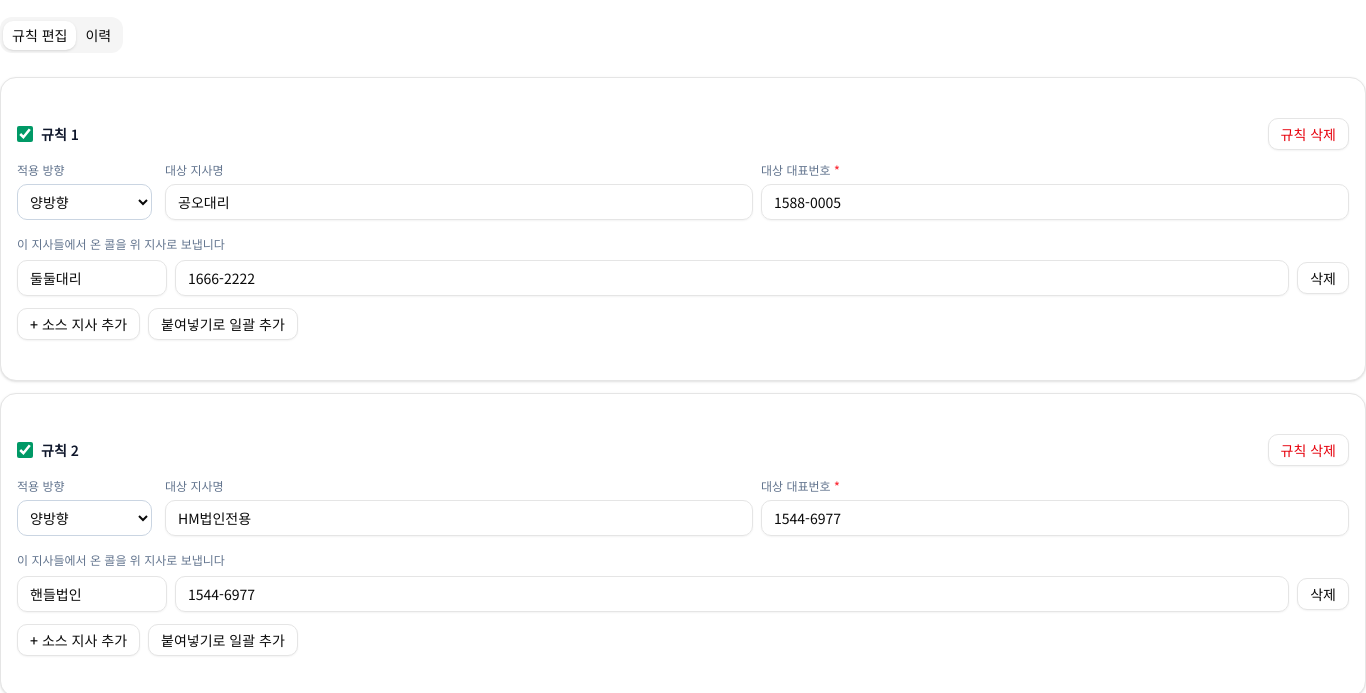
Test case: JisamapPage — 지사 관리자 › 모든 규칙을 끄면 매핑이 해제된다고 경고한다
This screenshot has width=1366, height=693.
Click the checkbox with test id "rule-enabled-0".
click(25, 134)  # box [17, 126, 33, 142]
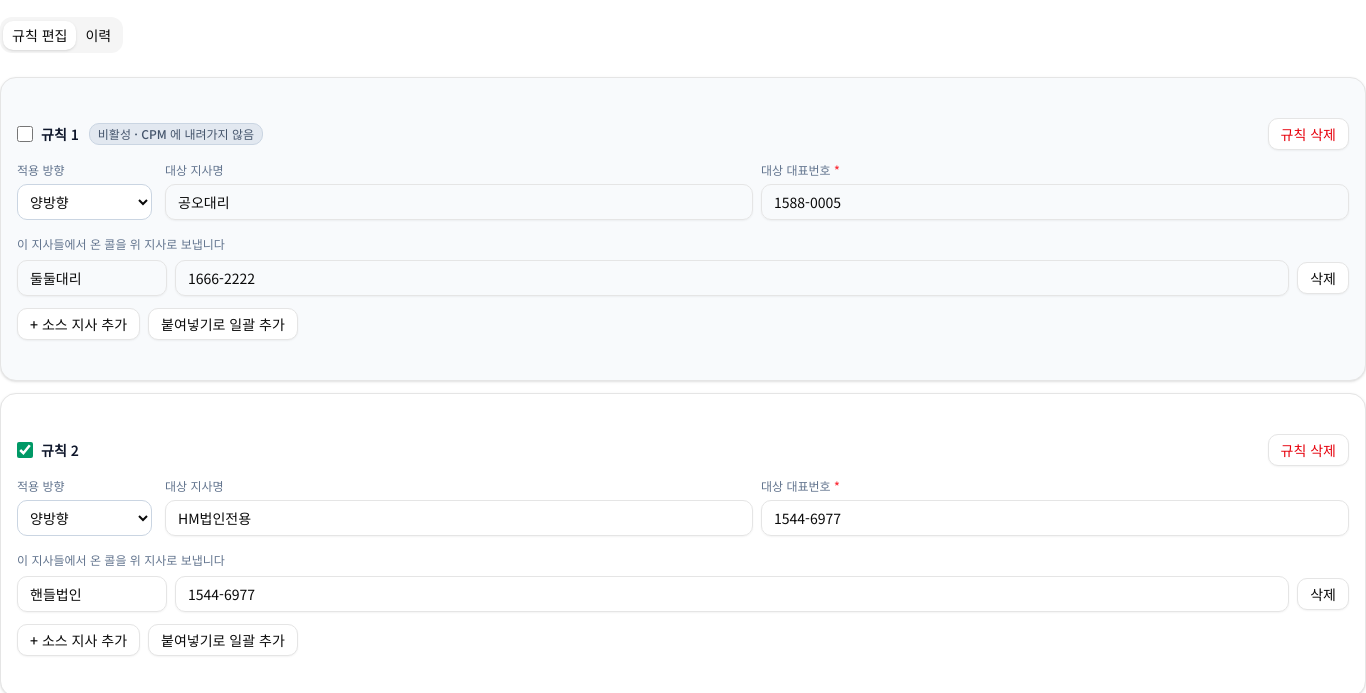
Click the checkbox with test id "rule-enabled-1".
click(25, 450)  # box [17, 442, 33, 458]
(page scrolled)
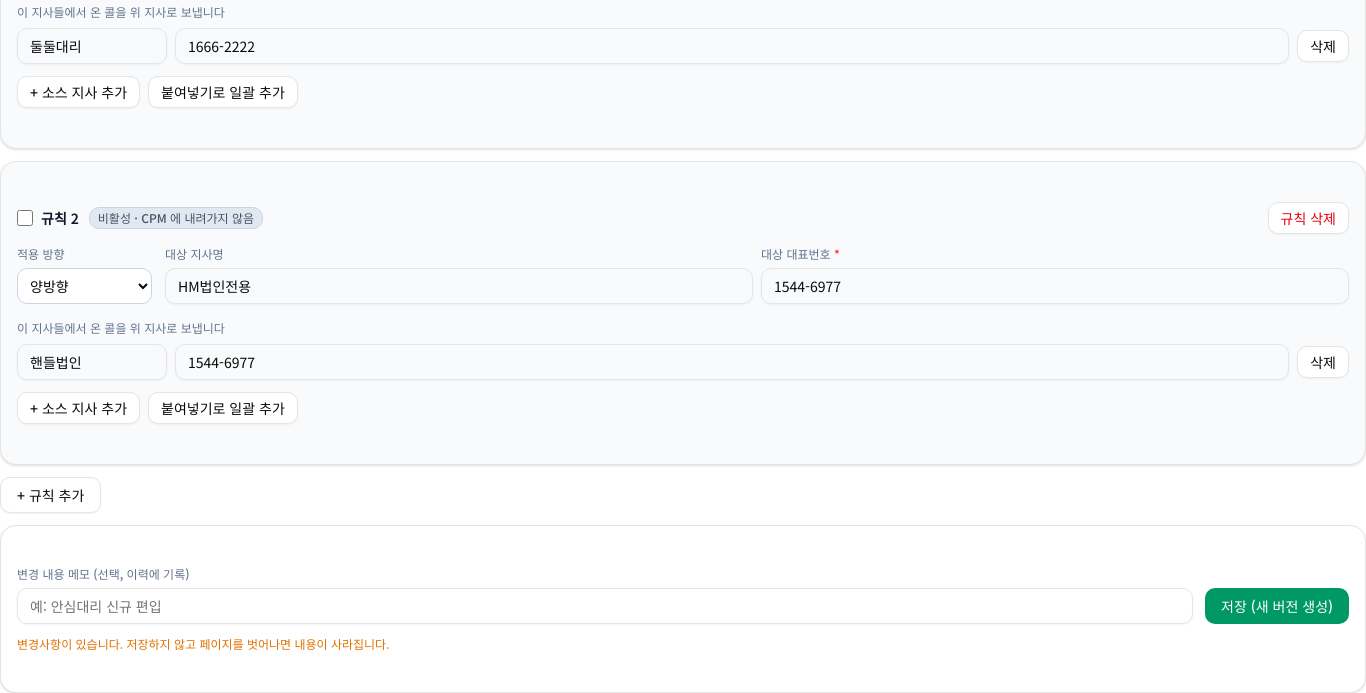
Click the button "저장 (새 버전 생성)".
click(1277, 606)  # box [1205, 588, 1349, 624]
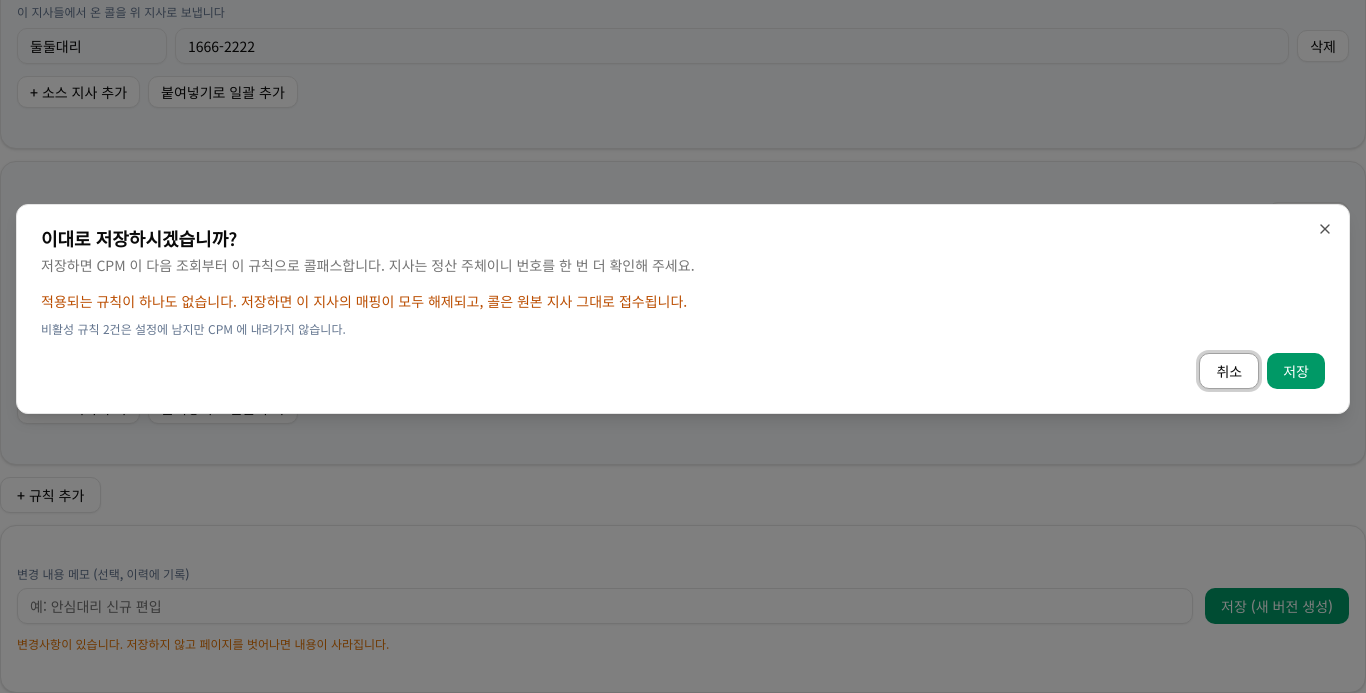
Result: the text "매핑이 모두 해제되고" is shown at [41, 291, 687, 311]
